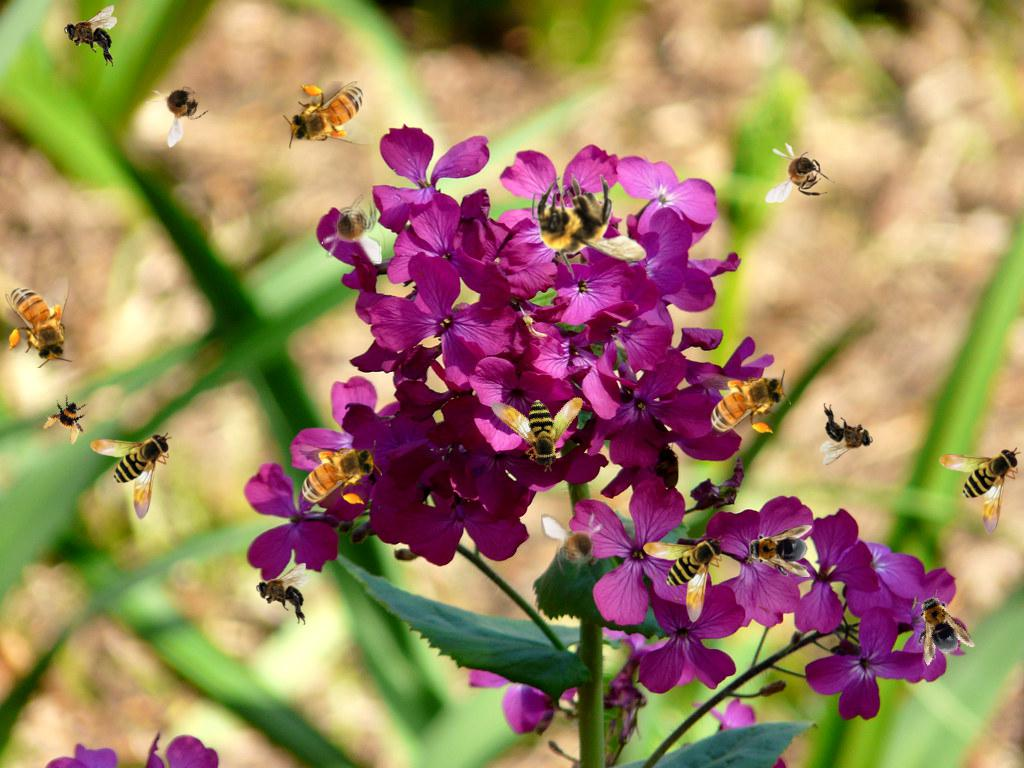Bee: (474, 359, 592, 475), (532, 173, 647, 280), (133, 59, 226, 151), (939, 447, 1021, 535), (643, 535, 725, 623), (90, 432, 172, 520), (900, 584, 976, 668), (698, 369, 791, 437), (283, 81, 376, 149), (289, 440, 382, 508), (5, 275, 73, 368), (539, 503, 616, 585), (321, 194, 382, 264), (765, 142, 835, 203), (39, 389, 99, 449), (744, 525, 812, 577), (820, 403, 873, 465), (64, 5, 117, 67), (256, 563, 309, 625)
